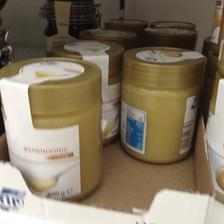Honig: (0, 56, 104, 200), (119, 45, 208, 165)
